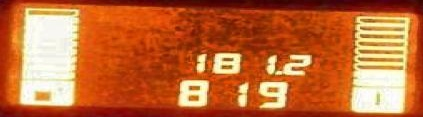-: (272, 69, 282, 75)
1: (233, 80, 248, 107), (191, 51, 205, 73), (263, 53, 276, 74)
2: (280, 53, 311, 74)
8: (175, 79, 208, 106), (210, 51, 240, 74)
9: (255, 80, 288, 107)
